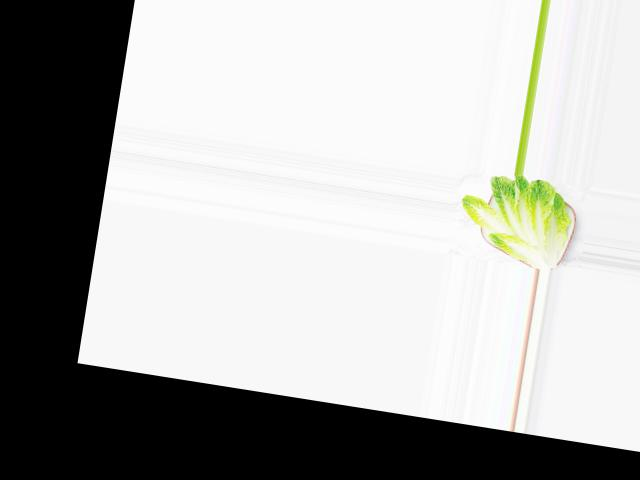lettuce: (451, 165, 583, 271)
